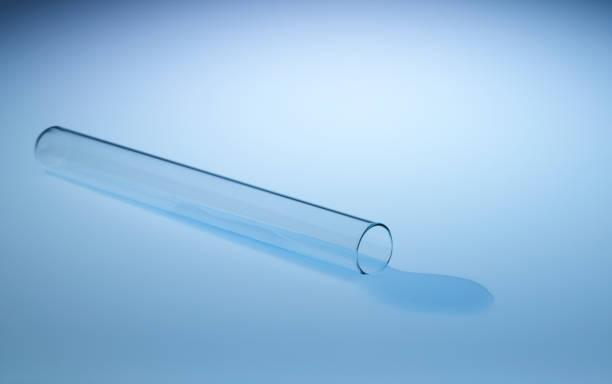Test tube: (25, 124, 405, 281)
